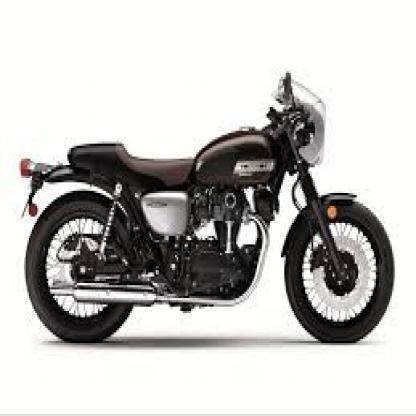Motorcycle: (15, 60, 402, 357)
